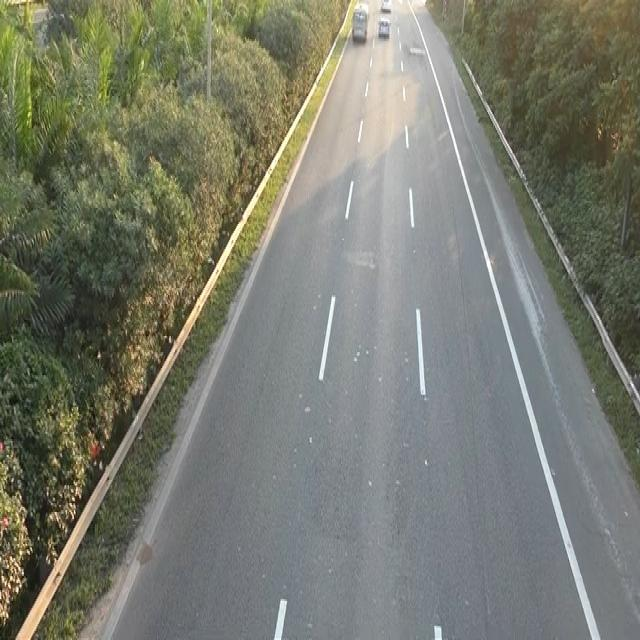bus: (377, 16, 390, 37), (380, 0, 392, 12)
jeep: (351, 2, 369, 42)
